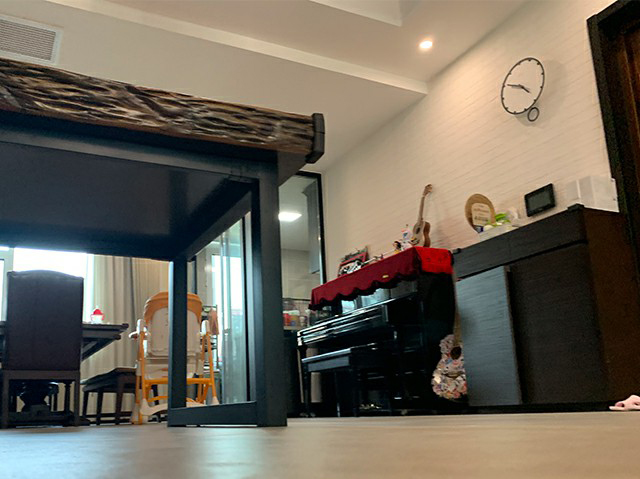cabinet: (450, 203, 640, 415)
slippers: (608, 394, 640, 412)
stool: (2, 268, 85, 428), (301, 343, 391, 418), (81, 366, 140, 427)
table: (1, 55, 326, 428)
